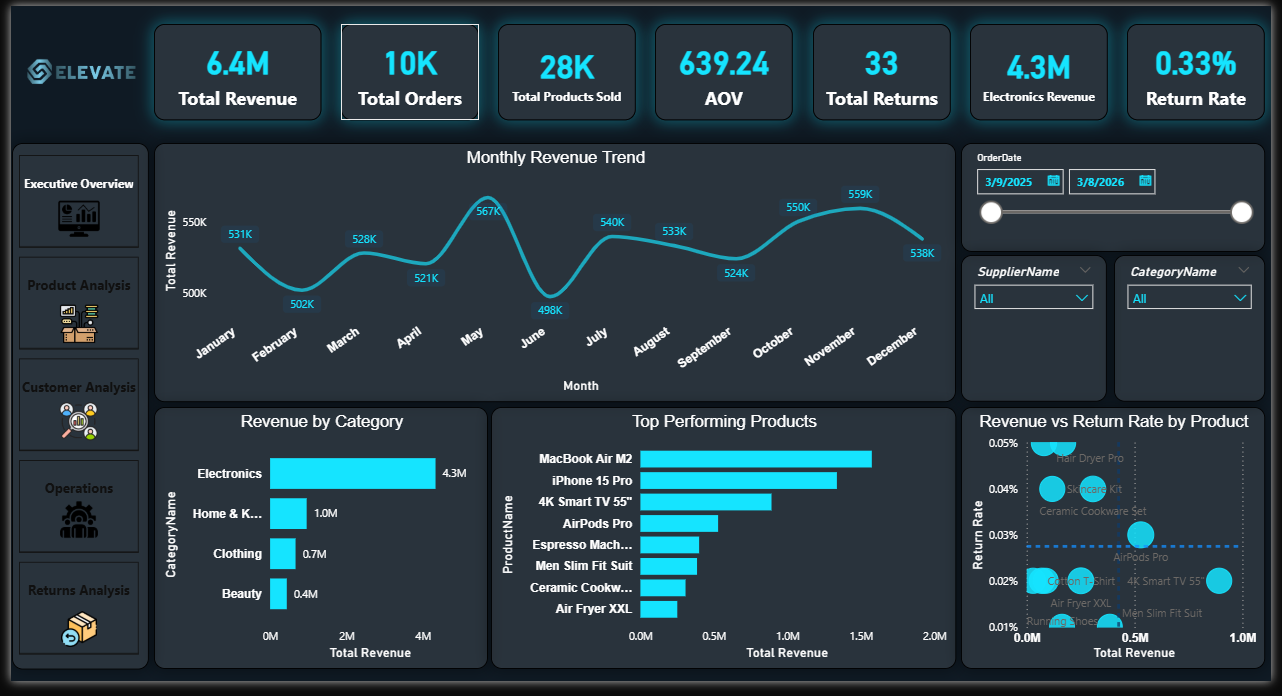

What the dashboard file says about the page in this screenshot:
{"tool":"powerbi","page":{"name":"Executive Overview","canvas":[1400,750],"ordinal":0},"visuals":[{"type":"lineChart","title":"Monthly Revenue Trend","fields":{"Category":["Orders.OrderDate.Variation.Date Hierarchy.Month"],"Y":["Categories.Revenue"]},"box":[158.9,152.2,891.1,287.8],"z":0},{"type":"clusteredBarChart","title":"Revenue by Category","fields":{"Category":["Categories.CategoryName"],"Y":["Categories.Total Revenue"]},"box":[159,446,371,291],"z":1000},{"type":"clusteredBarChart","title":"Top Performing Products","fields":{"Category":["Products.ProductName"],"Y":["Categories.Total Revenue"]},"box":[533.3,445.6,516.7,291.1],"z":2000},{"type":"slicer","fields":{"Values":["Orders.OrderDate"]},"box":[1055,152,338,121],"z":3000},{"type":"scatterChart","title":"Revenue vs Return Rate by Product","fields":{"X":["Categories.Total Revenue"],"Y":["Categories.Return Rate"],"Category":["Products.ProductName"],"Size":["Categories.Total Products Sold"]},"box":[1055.6,445.6,337.8,291.1],"z":4000},{"type":"slicer","fields":{"Values":["Categories.CategoryName"]},"box":[1225,277,168,163],"z":5000},{"type":"slicer","fields":{"Values":["Suppliers.SupplierName"]},"box":[1055,277,162,163],"z":6000},{"type":"card","fields":{"Values":["Categories.Total Revenue"]},"box":[159,20,186,107],"z":7000},{"type":"card","fields":{"Values":["Categories.Total Orders"]},"box":[366.7,20,153,107],"z":8000},{"type":"card","fields":{"Values":["Categories.Total Products Sold"]},"box":[541.3,20,153,107],"z":9000},{"type":"card","fields":{"Values":["Categories.AOV"]},"box":[716,20,153,107],"z":10000},{"type":"card","fields":{"Values":["Categories.Total Returns"]},"box":[890.7,20,153,107],"z":11000},{"type":"card","fields":{"Values":["Categories.Electronics Revenue"]},"box":[1065.3,20,153,107],"z":12000},{"type":"card","fields":{"Values":["Categories.Return Rate"]},"box":[1240,20,153,107],"z":13000},{"type":"image","box":[1,0,151,142],"z":14000},{"type":"shape","box":[1,152,152,585],"z":14000,"group":"g1"},{"type":"group","id":"g1","title":"Group 1","box":[1,152,152,585],"z":15000},{"type":"image","box":[16,672,119,40],"z":16000},{"type":"image","box":[16,550,119,42],"z":17000},{"type":"image","box":[16,440,119,43],"z":18000},{"type":"image","box":[18,331,115,44],"z":19000},{"type":"image","box":[16,213,119,46],"z":20000},{"type":"pageNavigator","box":[9,165,133,559],"z":21000,"group":"g1"}]}

Visuals, with their boxes in screenshot pixels (x1, y1, x2, y2), scaled from the page's 1400x750 canvas onto the 1282x696 screenshot:
"Monthly Revenue Trend" lineChart: 146, 141, 962, 408
"Revenue by Category" clusteredBarChart: 146, 414, 485, 684
"Top Performing Products" clusteredBarChart: 488, 414, 962, 684
slicer - Orders.OrderDate: 966, 141, 1276, 253
"Revenue vs Return Rate by Product" scatterChart: 967, 414, 1276, 684
slicer - Categories.CategoryName: 1122, 257, 1276, 408
slicer - Suppliers.SupplierName: 966, 257, 1114, 408
card - Categories.Total Revenue: 146, 19, 316, 118
card - Categories.Total Orders: 336, 19, 476, 118
card - Categories.Total Products Sold: 496, 19, 636, 118
card - Categories.AOV: 656, 19, 796, 118
card - Categories.Total Returns: 816, 19, 956, 118
card - Categories.Electronics Revenue: 976, 19, 1116, 118
card - Categories.Return Rate: 1135, 19, 1276, 118
image: 1, 0, 139, 132
shape: 1, 141, 140, 684
"Group 1" group: 1, 141, 140, 684
image: 15, 624, 124, 661
image: 15, 510, 124, 549
image: 15, 408, 124, 448
image: 16, 307, 122, 348
image: 15, 198, 124, 240
pageNavigator: 8, 153, 130, 672
